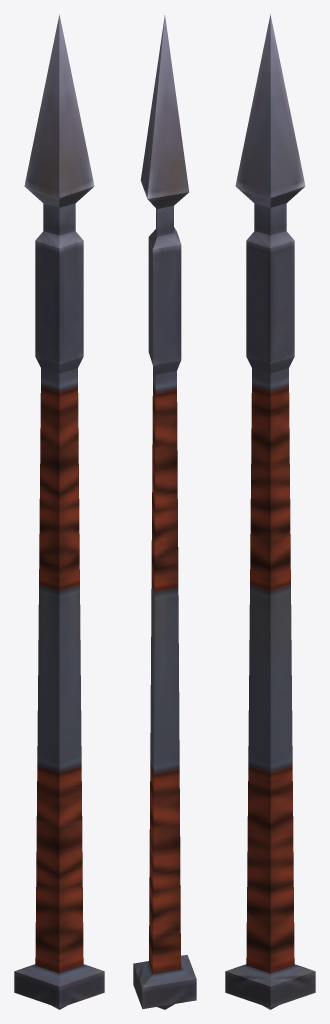
The model's file is lance.FBX.
3 renders of one model, left to right at view 1: azimuth 90°, elevation 25°; view 2: azimuth 150°, elevation 25°; view 3: azimuth 270°, elevation 25°, orthographic.
Visible parts, largest first — view 1: lance; view 2: lance; view 3: lance.
Boxes of the visible parts, x1,y1,x2,y2 form: lance: (14,14,104,1009); lance: (133,15,196,1009); lance: (225,14,315,1009).
Bounding box in the file's own units: 4.87 × 73.19 × 6.02.
